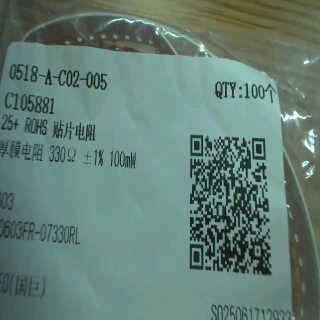330R: (45, 143, 81, 168)
